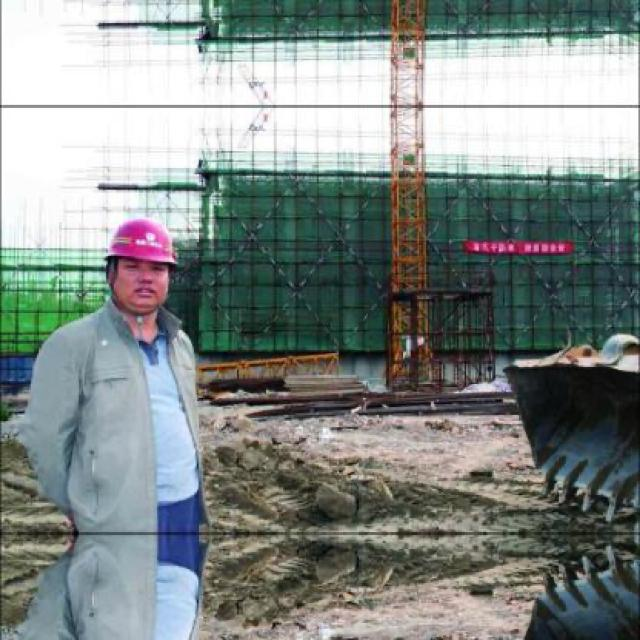con casco: (45, 199, 222, 332)
